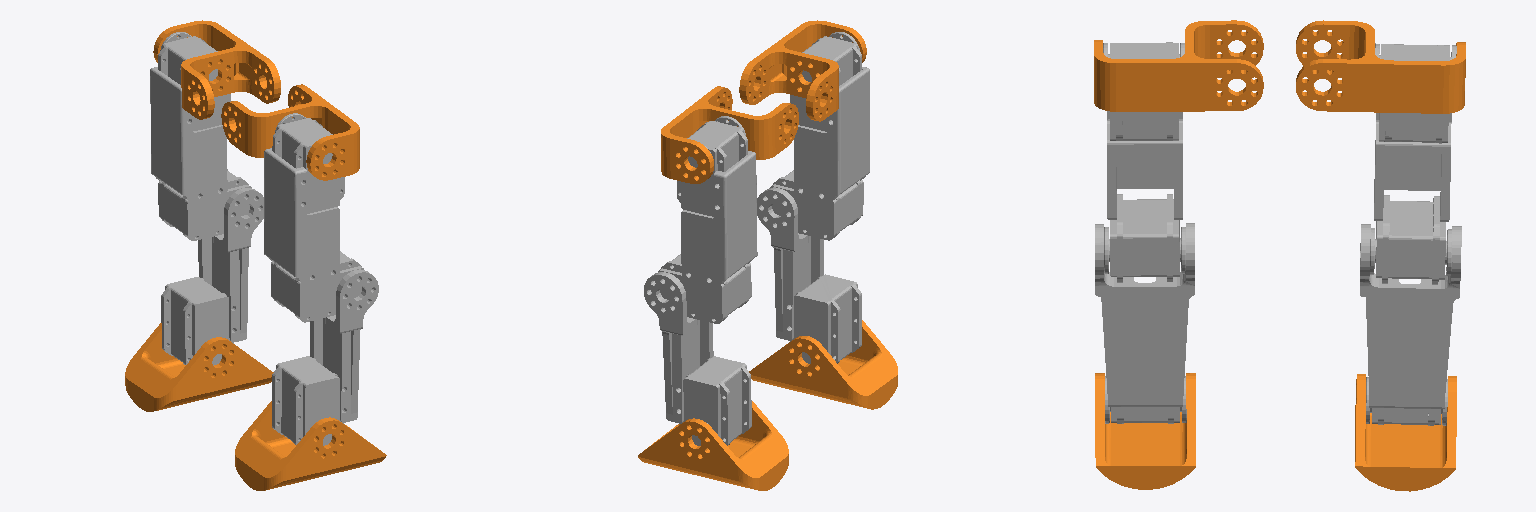
URDF robot description (xgo_biped):
<?xml version="1.0" encoding="utf-8"?>
<!-- This URDF was automatically created by SolidWorks to URDF Exporter! Originally created by [author] ([email redacted]) 
     Commit Version: 1.6.0-4-g7f85cfe  Build Version: 1.6.7995.38578
     For more information, please see http://wiki.ros.org/sw_urdf_exporter -->
<robot
  name="xgo_biped">
  <link
    name="body">
    <inertial>
      <origin
        xyz="0.0049264 6.0158E-05 0.0038711"
        rpy="0 0 0" />
      <mass
        value="0.257" />
      <inertia
        ixx="0.00019812"
        ixy="3.8E-7"
        ixz="-9.5E-06"
        iyy="0.00021897"
        iyz="1.9E-7"
        izz="0.00022773" />
    </inertial>
    <visual>
      <origin
        xyz="0 0 0"
        rpy="0 0 0" />
      <geometry>
        <mesh
          filename="../meshes/body.STL" />
      </geometry>
      <material
        name="">
        <color
          rgba="0.75294 0.75294 0.75294 1" />
      </material>
    </visual>
    <collision>
      <origin
        xyz="0 0 0"
        rpy="0 0 0" />
      <geometry>
        <mesh
          filename="../meshes/body.STL" />
      </geometry>
    </collision>
  </link>
  <link
    name="fr_hip">
    <inertial>
      <origin
        xyz="-0.009819 -0.019888 -7.3131E-05"
        rpy="0 0 0" />
      <mass
        value="0.0054132" />
      <inertia
        ixx="1.4009E-06"
        ixy="2.7332E-07"
        ixz="0"
        iyy="8.4187E-07"
        iyz="0"
        izz="1.9682E-06" />
    </inertial>
    <visual>
      <origin
        xyz="0 0 0"
        rpy="0 0 0" />
      <geometry>
        <mesh
          filename="../meshes/fr_hip.STL" />
      </geometry>
      <material
        name="">
        <color
          rgba="1 0.6 0.19608 1" />
      </material>
    </visual>
    <collision>
      <origin
        xyz="0 0 0"
        rpy="0 0 0" />
      <geometry>
        <mesh
          filename="../meshes/fr_hip.STL" />
      </geometry>
    </collision>
  </link>
  <joint
    name="fr_hip_joint"
    type="revolute">
    <origin
      xyz="0.019871 -0.013527 -0.013452"
      rpy="0 0 0" />
    <parent
      link="body" />
    <child
      link="fr_hip" />
    <axis
      xyz="1 0 0" />
    <limit
      lower="-2"
      upper="2"
      effort="0.45"
      velocity="10" />
  </joint>
  <link
    name="fr_thigh">
    <inertial>
      <origin
        xyz="0.0005393 0.014643 -0.032876"
        rpy="0 0 0" />
      <mass
        value="0.0557" />
      <inertia
        ixx="3.713E-05"
        ixy="-1E-8"
        ixz="3.02E-06"
        iyy="3.728E-05"
        iyz="1.1E-07"
        izz="5.8E-06" />
    </inertial>
    <visual>
      <origin
        xyz="0 0 0"
        rpy="0 0 0" />
      <geometry>
        <mesh
          filename="../meshes/fr_thigh.STL" />
      </geometry>
      <material
        name="">
        <color
          rgba="0.75294 0.75294 0.75294 1" />
      </material>
    </visual>
    <collision>
      <origin
        xyz="0 0 0"
        rpy="0 0 0" />
      <geometry>
        <mesh
          filename="../meshes/fr_thigh.STL" />
      </geometry>
    </collision>
  </link>
  <joint
    name="fr_thigh_joint"
    type="revolute">
    <origin
      xyz="-0.0145 -0.044 -0.00016176"
      rpy="0 0 0" />
    <parent
      link="fr_hip" />
    <child
      link="fr_thigh" />
    <axis
      xyz="0 1 0" />
    <limit
      lower="-2"
      upper="2"
      effort="0.45"
      velocity="10" />
  </joint>
  <link
    name="fr_calf">
    <inertial>
      <origin
        xyz="-0.0084428 0.014649 -0.040152"
        rpy="0 0 0" />
      <mass
        value="0.0313" />
      <inertia
        ixx="8.59E-06"
        ixy="1E-08"
        ixz="-1.53E-06"
        iyy="8.06E-06"
        iyz="2E-08"
        izz="3.16E-06" />
    </inertial>
    <visual>
      <origin
        xyz="0 0 0"
        rpy="0 0 0" />
      <geometry>
        <mesh
          filename="../meshes/fr_calf.STL" />
      </geometry>
      <material
        name="">
        <color
          rgba="0.75294 0.75294 0.75294 1" />
      </material>
    </visual>
    <collision>
      <origin
        xyz="0 0 0"
        rpy="0 0 0" />
      <geometry>
        <mesh
          filename="../meshes/fr_calf.STL" />
      </geometry>
    </collision>
  </link>
  <joint
    name="fr_calf_joint"
    type="revolute">
    <origin
      xyz="0.013 0.00021535 -0.058574"
      rpy="0 0 0" />
    <parent
      link="fr_thigh" />
    <child
      link="fr_calf" />
    <axis
      xyz="0 1 0" />
    <limit
      lower="-2"
      upper="2"
      effort="0.45"
      velocity="10" />
  </joint>
  <link
    name="fr_foot">
    <inertial>
      <origin
        xyz="-0.0013762 0.014545 -0.012161"
        rpy="0 0 0" />
      <mass
        value="0.01419" />
      <inertia
        ixx="1.6837E-06"
        ixy="0"
        ixz="7E-08"
        iyy="3.187E-06"
        iyz="0"
        izz="4.0677E-06" />
    </inertial>
    <visual>
      <origin
        xyz="0 0 0"
        rpy="0 0 0" />
      <geometry>
        <mesh
          filename="../meshes/fr_foot.STL" />
      </geometry>
      <material
        name="">
        <color
          rgba="1 0.6 0.19608 1" />
      </material>
    </visual>
    <collision>
      <origin
        xyz="0 0 0"
        rpy="0 0 0" />
      <geometry>
        <mesh
          filename="../meshes/fr_foot.STL" />
      </geometry>
    </collision>
  </link>
  <joint
    name="fr_foot_joint"
    type="revolute">
    <origin
      xyz="-0.013 0.00021535 -0.058574"
      rpy="0 0 0" />
    <parent
      link="fr_calf" />
    <child
      link="fr_foot" />
    <axis
      xyz="0 1 0" />
    <limit
      lower="-2"
      upper="2"
      effort="0.45"
      velocity="10" />
  </joint>
  <link
    name="fl_hip">
    <inertial>
      <origin
        xyz="-0.009819 0.019883 -0.00046622"
        rpy="0 0 0" />
      <mass
        value="0.0054132" />
      <inertia
        ixx="1.4009E-06"
        ixy="-2.7325E-07"
        ixz="1E-08"
        iyy="8.4248E-07"
        iyz="3E-08"
        izz="1.9676E-06" />
    </inertial>
    <visual>
      <origin
        xyz="0 0 0"
        rpy="0 0 0" />
      <geometry>
        <mesh
          filename="../meshes/fl_hip.STL" />
      </geometry>
      <material
        name="">
        <color
          rgba="1 0.6 0.19608 1" />
      </material>
    </visual>
    <collision>
      <origin
        xyz="0 0 0"
        rpy="0 0 0" />
      <geometry>
        <mesh
          filename="../meshes/fl_hip.STL" />
      </geometry>
    </collision>
  </link>
  <joint
    name="fl_hip_joint"
    type="revolute">
    <origin
      xyz="0.019871 0.013673 -0.013452"
      rpy="0 0 0" />
    <parent
      link="body" />
    <child
      link="fl_hip" />
    <axis
      xyz="1 0 0" />
    <limit
      lower="-2"
      upper="2"
      effort="0.45"
      velocity="10" />
  </joint>
  <link
    name="fl_thigh">
    <inertial>
      <origin
        xyz="0.0005393 -0.015246 -0.032582"
        rpy="0 0 0" />
      <mass
        value="0.0557" />
      <inertia
        ixx="3.713E-05"
        ixy="7E-08"
        ixz="3.02E-06"
        iyy="3.727E-05"
        iyz="-7.4E-07"
        izz="5.82E-06" />
    </inertial>
    <visual>
      <origin
        xyz="0 0 0"
        rpy="0 0 0" />
      <geometry>
        <mesh
          filename="../meshes/fl_thigh.STL" />
      </geometry>
      <material
        name="">
        <color
          rgba="0.75294 0.75294 0.75294 1" />
      </material>
    </visual>
    <collision>
      <origin
        xyz="0 0 0"
        rpy="0 0 0" />
      <geometry>
        <mesh
          filename="../meshes/fl_thigh.STL" />
      </geometry>
    </collision>
  </link>
  <joint
    name="fl_thigh_joint"
    type="revolute">
    <origin
      xyz="-0.0145 0.043988 -0.0010315"
      rpy="0 0 0" />
    <parent
      link="fl_hip" />
    <child
      link="fl_thigh" />
    <axis
      xyz="0 1 0" />
    <limit
      lower="-2"
      upper="2"
      effort="0.45"
      velocity="10" />
  </joint>
  <link
    name="fl_calf">
    <inertial>
      <origin
        xyz="-0.0084428 -0.015437 -0.039855"
        rpy="0 0 0" />
      <mass
        value="0.0314" />
      <inertia
        ixx="8.59E-06"
        ixy="-4E-08"
        ixz="-1.53E-06"
        iyy="8.06E-06"
        iyz="-1.2E-07"
        izz="3.16E-06" />
    </inertial>
    <visual>
      <origin
        xyz="0 0 0"
        rpy="0 0 0" />
      <geometry>
        <mesh
          filename="../meshes/fl_calf.STL" />
      </geometry>
      <material
        name="">
        <color
          rgba="0.75294 0.75294 0.75294 1" />
      </material>
    </visual>
    <collision>
      <origin
        xyz="0 0 0"
        rpy="0 0 0" />
      <geometry>
        <mesh
          filename="../meshes/fl_calf.STL" />
      </geometry>
    </collision>
  </link>
  <joint
    name="fl_calf_joint"
    type="revolute">
    <origin
      xyz="0.013 -0.0013732 -0.058559"
      rpy="0 0 0" />
    <parent
      link="fl_thigh" />
    <child
      link="fl_calf" />
    <axis
      xyz="0 1 0" />
    <limit
      lower="-2"
      upper="2"
      effort="0.45"
      velocity="10" />
  </joint>
  <link
    name="fl_foot">
    <inertial>
      <origin
        xyz="-0.0013762 -0.014782 -0.011871"
        rpy="0 0 0" />
      <mass
        value="0.01419" />
      <inertia
        ixx="1.6837E-06"
        ixy="0"
        ixz="7E-08"
        iyy="3.1875E-06"
        iyz="2.064E-08"
        izz="4.0672E-06" />
    </inertial>
    <visual>
      <origin
        xyz="0 0 0"
        rpy="0 0 0" />
      <geometry>
        <mesh
          filename="../meshes/fl_foot.STL" />
      </geometry>
      <material
        name="">
        <color
          rgba="1 0.6 0.19608 1" />
      </material>
    </visual>
    <collision>
      <origin
        xyz="0 0 0"
        rpy="0 0 0" />
      <geometry>
        <mesh
          filename="../meshes/fl_foot.STL" />
      </geometry>
    </collision>
  </link>
  <joint
    name="fl_foot_joint"
    type="revolute">
    <origin
      xyz="-0.013 -0.0013732 -0.058559"
      rpy="0 0 0" />
    <parent
      link="fl_calf" />
    <child
      link="fl_foot" />
    <axis
      xyz="0 1 0" />
    <limit
      lower="-2"
      upper="2"
      effort="0.45"
      velocity="10" />
  </joint>
</robot>

--- Render facts (derived) ---
3 views of the same robot in one strip: view 1: azimuth 30°, elevation 25°; view 2: azimuth 150°, elevation 25°; view 3: azimuth 270°, elevation 25° (orthographic).
Model xgo_biped with 9 links and 8 joints (8 revolute), rooted at body, posed every joint at zero.
Visible links, largest first — view 1: fr_thigh, fl_thigh, fr_calf, fl_calf, fl_foot, fr_foot, fl_hip, fr_hip; view 2: fl_thigh, fr_thigh, fr_calf, fl_calf, fl_foot, fr_foot, fr_hip, fl_hip; view 3: fl_thigh, fr_thigh, fl_calf, fr_calf, fr_hip, fl_hip, fl_foot, fr_foot.
Link boxes in pixels (box(x1,y1,x2,y2)): fr_thigh: box(264, 113, 363, 322); fl_thigh: box(150, 32, 251, 240); fr_calf: box(272, 269, 378, 445); fl_calf: box(161, 188, 263, 365); fl_foot: box(125, 323, 273, 411); fr_foot: box(235, 401, 386, 490); fl_hip: box(153, 20, 280, 119); fr_hip: box(221, 84, 359, 180); fl_thigh: box(658, 116, 757, 323); fr_thigh: box(770, 32, 869, 240); fr_calf: box(757, 187, 861, 363); fl_calf: box(644, 272, 751, 445); fl_foot: box(638, 401, 788, 490); fr_foot: box(749, 320, 897, 409); fr_hip: box(739, 20, 866, 121); fl_hip: box(661, 86, 798, 183); fl_thigh: box(1370, 43, 1456, 284); fr_thigh: box(1103, 42, 1185, 282); fl_calf: box(1360, 224, 1461, 425); fr_calf: box(1095, 223, 1194, 423); fr_hip: box(1094, 20, 1263, 111); fl_hip: box(1296, 20, 1465, 113); fl_foot: box(1355, 374, 1456, 491); fr_foot: box(1095, 373, 1195, 489).
Bounding box of the posed robot: 0.05 × 0.1184 × 0.1463 m (x, y, z).
8 mesh visuals loaded from 9 distinct referenced files (8 binary STL); not drawn: 1 (reference not matched to a file when rendering).
